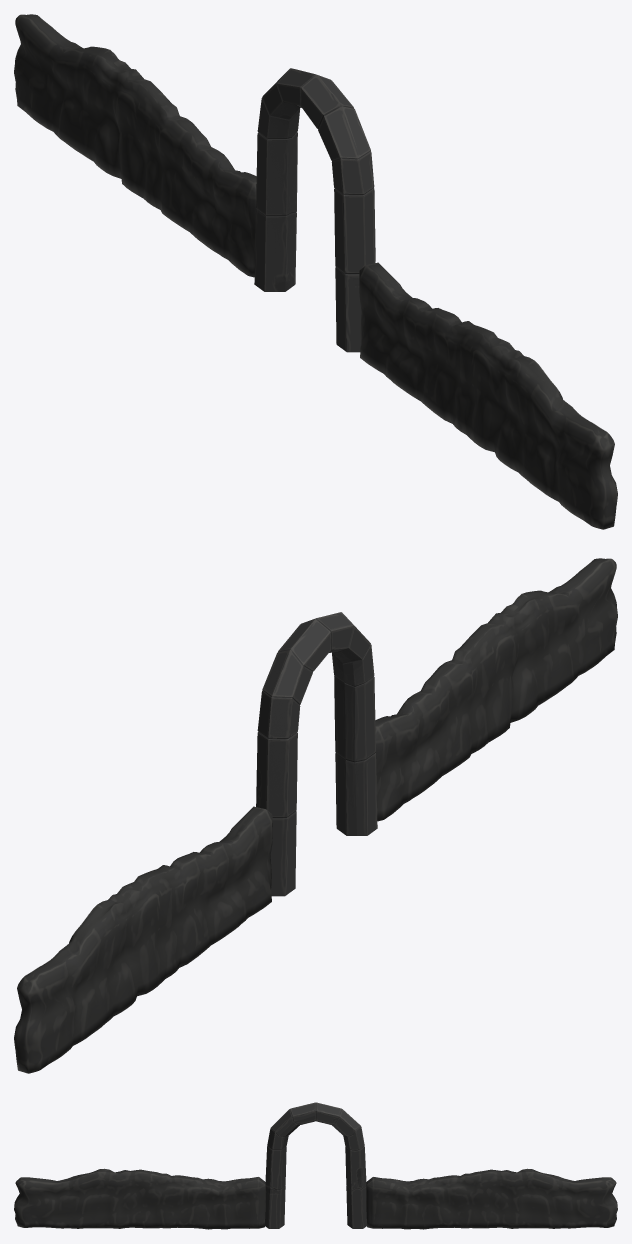
Rendered from Gate.fbx.
The picture shows the model from 3 angles, top to bottom: view 1: azimuth 30°, elevation 25°; view 2: azimuth 150°, elevation 25°; view 3: azimuth 270°, elevation 25°; orthographic projection. The views are drawn at different scales.
Parts seen in each view (by area): view 1: Wall_LO, Torus_LO; view 2: Wall_LO, Torus_LO; view 3: Wall_LO, Torus_LO.
Part boxes in pixels (left/top/right/bottom): Wall_LO: left=14, top=14, right=617, bottom=529; Torus_LO: left=254, top=68, right=375, bottom=352; Wall_LO: left=14, top=558, right=617, bottom=1073; Torus_LO: left=256, top=612, right=377, bottom=896; Wall_LO: left=14, top=1168, right=617, bottom=1229; Torus_LO: left=265, top=1102, right=366, bottom=1228.
Bounding box in the file's own units: 32.36 × 232 × 1027.
2 materials, 2 textured.
